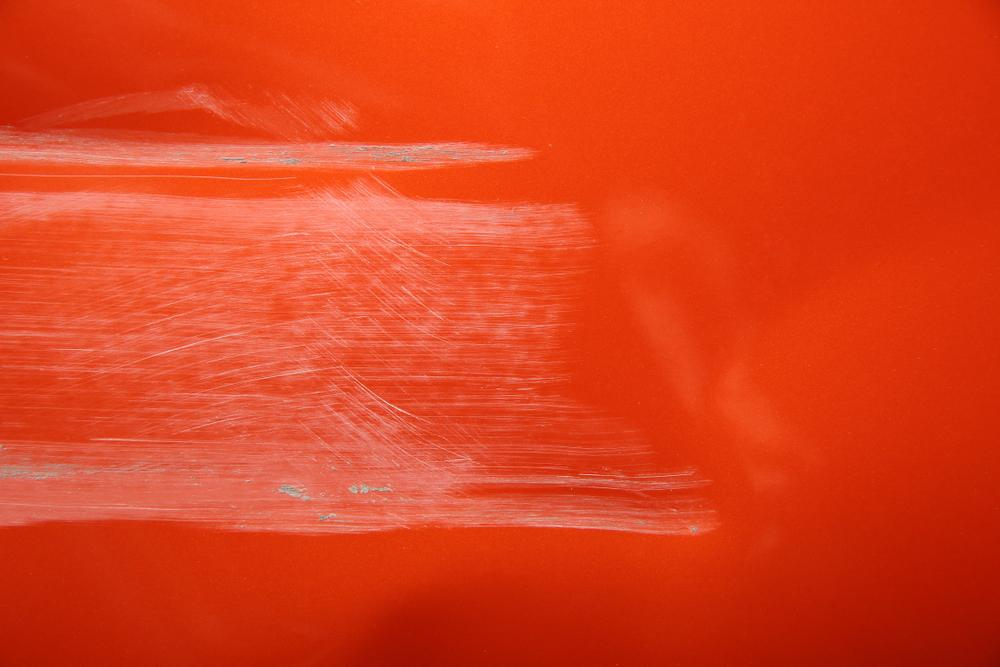scratch: (0, 73, 740, 544)
